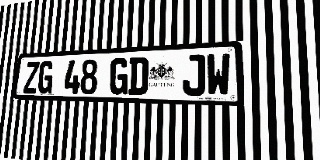4: (63, 60, 82, 94)
8: (80, 59, 98, 94)
D: (128, 57, 149, 95)
G: (109, 58, 129, 95), (37, 61, 54, 94)
J: (182, 54, 205, 96)
W: (206, 53, 231, 96)
Z: (23, 61, 40, 93)
